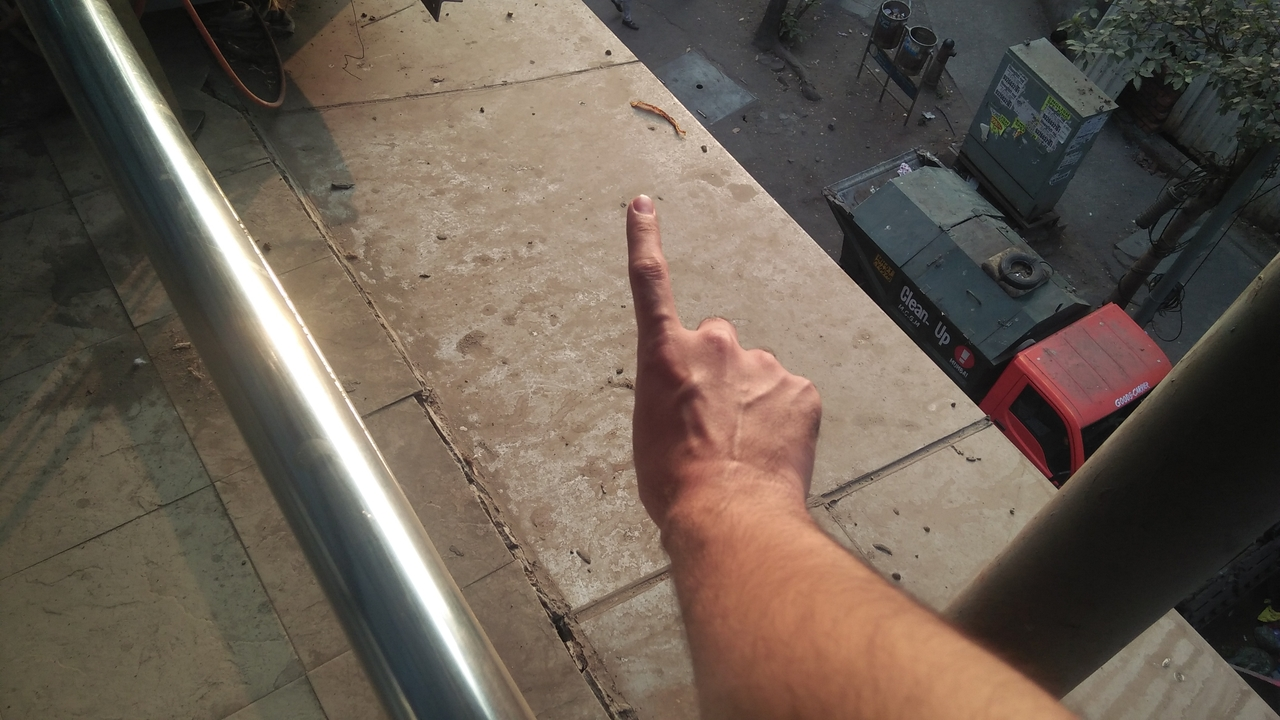fingertip: (618, 176, 670, 226)
